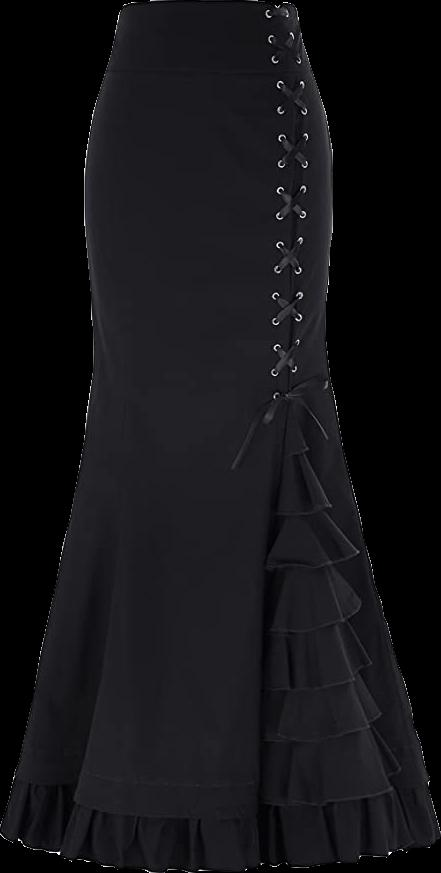Hemline: (0, 820, 440, 872)
Waistline: (99, 61, 312, 76), (118, 0, 294, 15)
